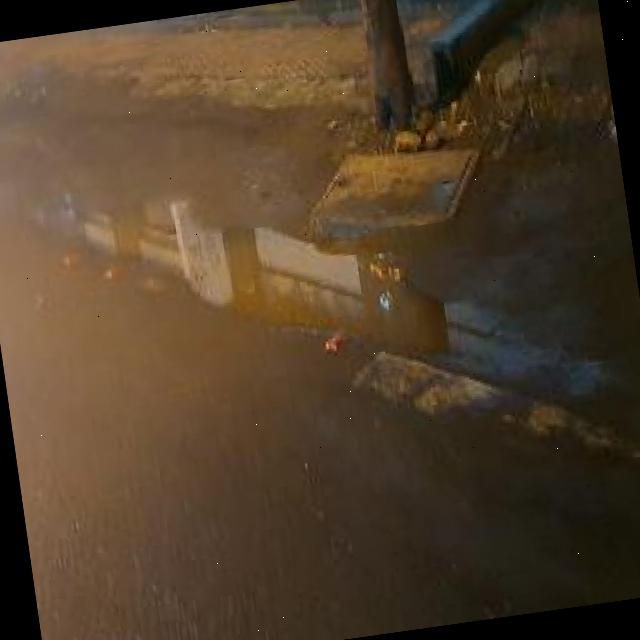stagnation: (52, 191, 458, 360)
